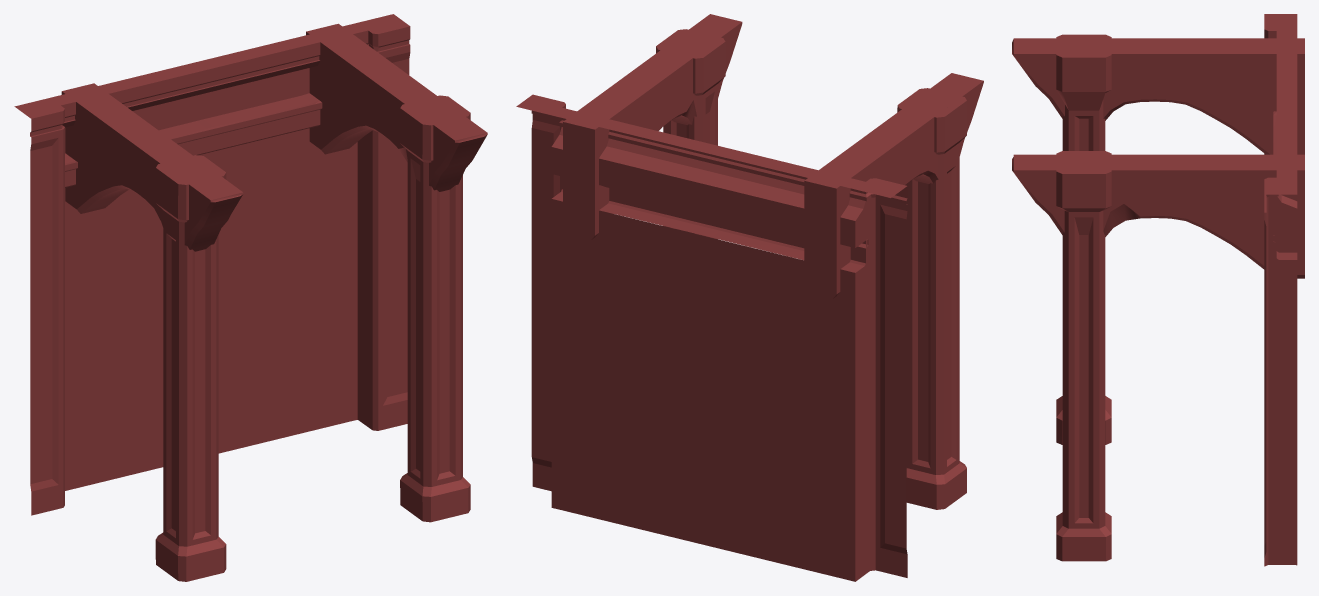
The model's file is O_V_FacadeExrude1_Down.fbx.
The picture shows the model from 3 angles, left to right: view 1: azimuth 30°, elevation 25°; view 2: azimuth 150°, elevation 25°; view 3: azimuth 270°, elevation 25°; orthographic projection. The views are drawn at different scales.
Parts seen in each view (by area): view 1: O_V_FacadeExrude1_Down; view 2: O_V_FacadeExrude1_Down; view 3: O_V_FacadeExrude1_Down.
Boxes of the visible parts, left/top/right/bottom form: O_V_FacadeExrude1_Down: left=14, top=14, right=487, bottom=581; O_V_FacadeExrude1_Down: left=516, top=14, right=983, bottom=581; O_V_FacadeExrude1_Down: left=1012, top=14, right=1304, bottom=566.
Size of the model in its own units: 6.5 by 6.5 by 4.45.
